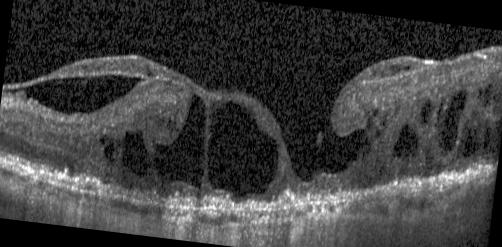intraretinal_cyst: (207, 100, 279, 195), (5, 74, 144, 114), (154, 94, 207, 187), (440, 90, 468, 149), (122, 129, 155, 177), (394, 124, 419, 158), (462, 133, 478, 155), (420, 98, 434, 122), (479, 82, 492, 105), (103, 141, 115, 161), (436, 99, 444, 125), (484, 127, 491, 147), (380, 114, 388, 126), (365, 117, 371, 131), (100, 136, 108, 143), (371, 108, 378, 116), (375, 128, 381, 137)
lamellar_macular_rupture: (256, 88, 371, 181)
vitreomacular_traction: (354, 55, 440, 79)
